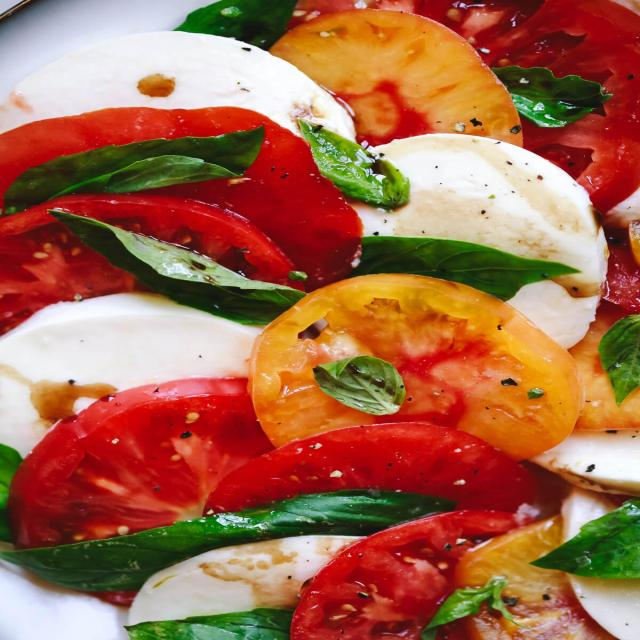Tomato: (3, 378, 316, 532)
